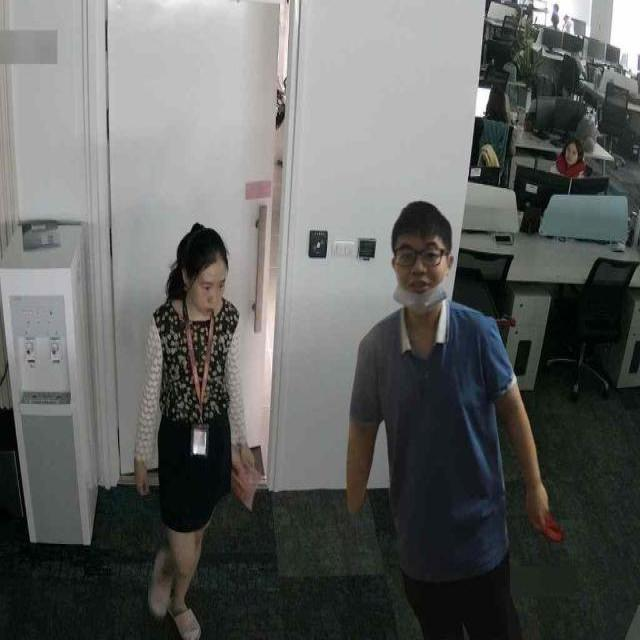bare_hand: (514, 472, 567, 541), (110, 453, 169, 509)
